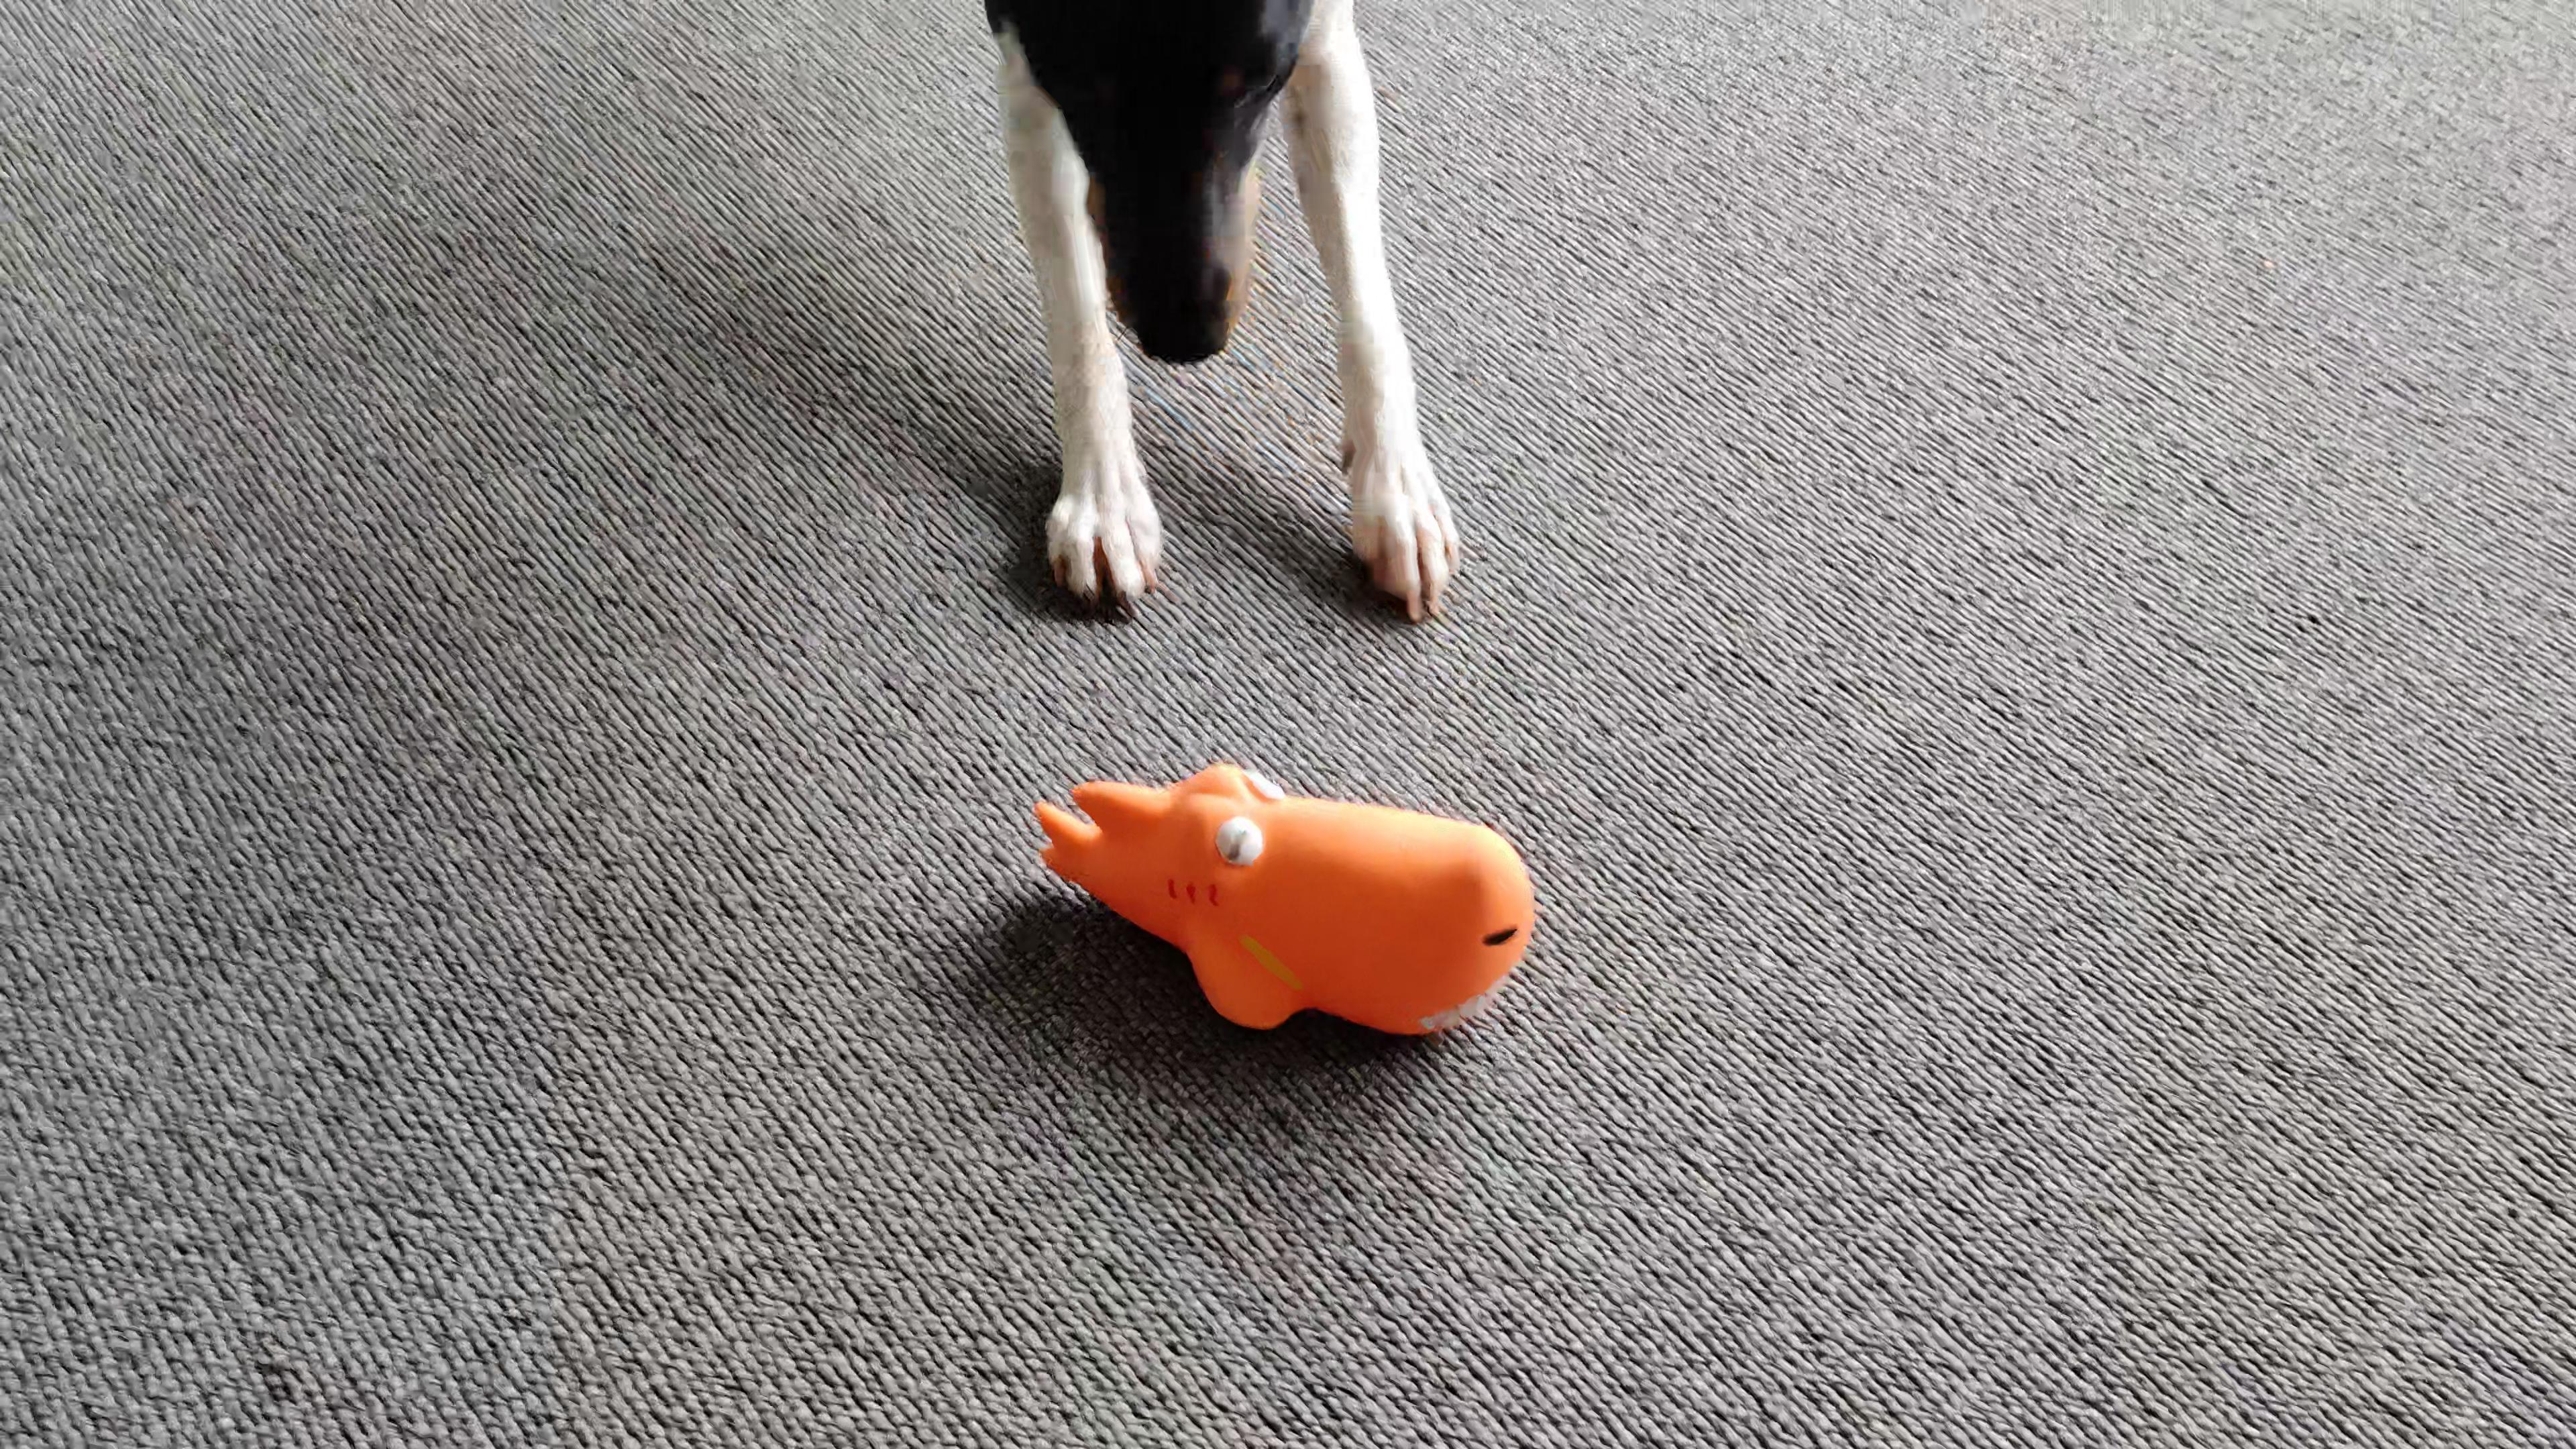Dog: (961, 0, 1476, 630)
